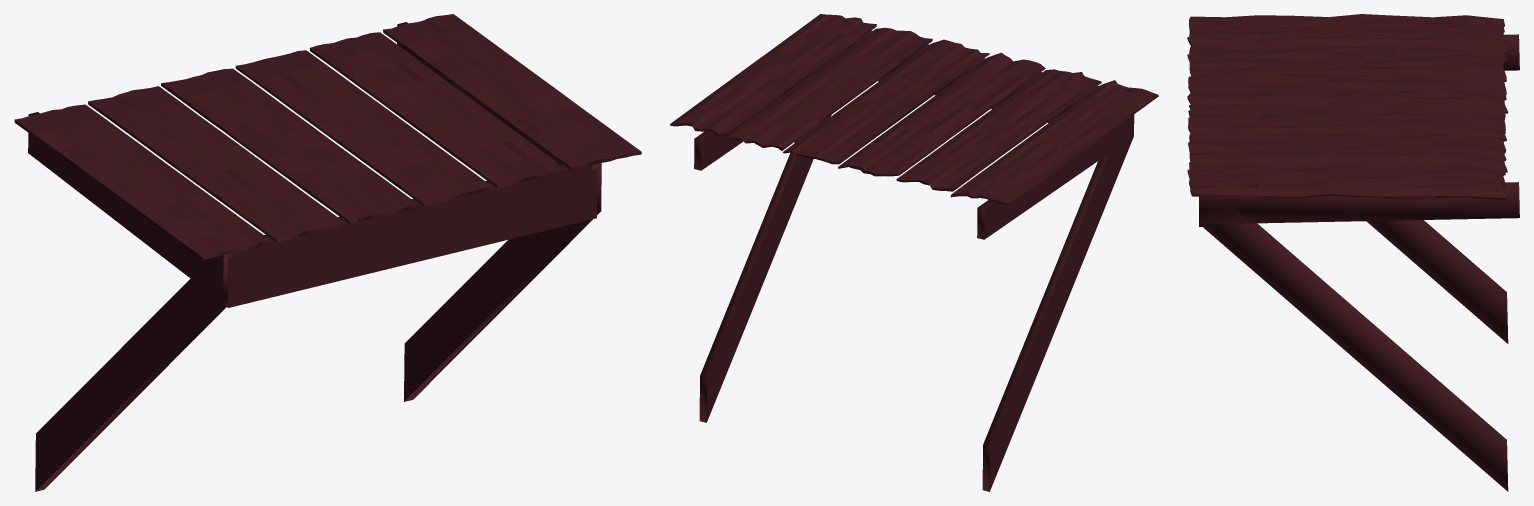
The model's file is level_one_rock_wall_platform_1.fbx.
3 renders of one model, left to right at view 1: azimuth 30°, elevation 25°; view 2: azimuth 150°, elevation 25°; view 3: azimuth 270°, elevation 25°, orthographic. The views are drawn at different scales.
Visible parts, largest first — view 1: RockWallPlatform01; view 2: RockWallPlatform01; view 3: RockWallPlatform01.
Boxes of the visible parts, box(x1,y1,x2,y2) form: RockWallPlatform01: box(14, 14, 641, 491); RockWallPlatform01: box(670, 14, 1158, 491); RockWallPlatform01: box(1187, 14, 1519, 491).
Bounding box in the file's own units: 374 × 474 × 393.
